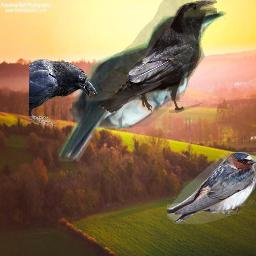Crow: (99, 0, 217, 113), (29, 59, 97, 126)
Cuckoo: (58, 11, 227, 163)
Swallow: (167, 152, 256, 224)
